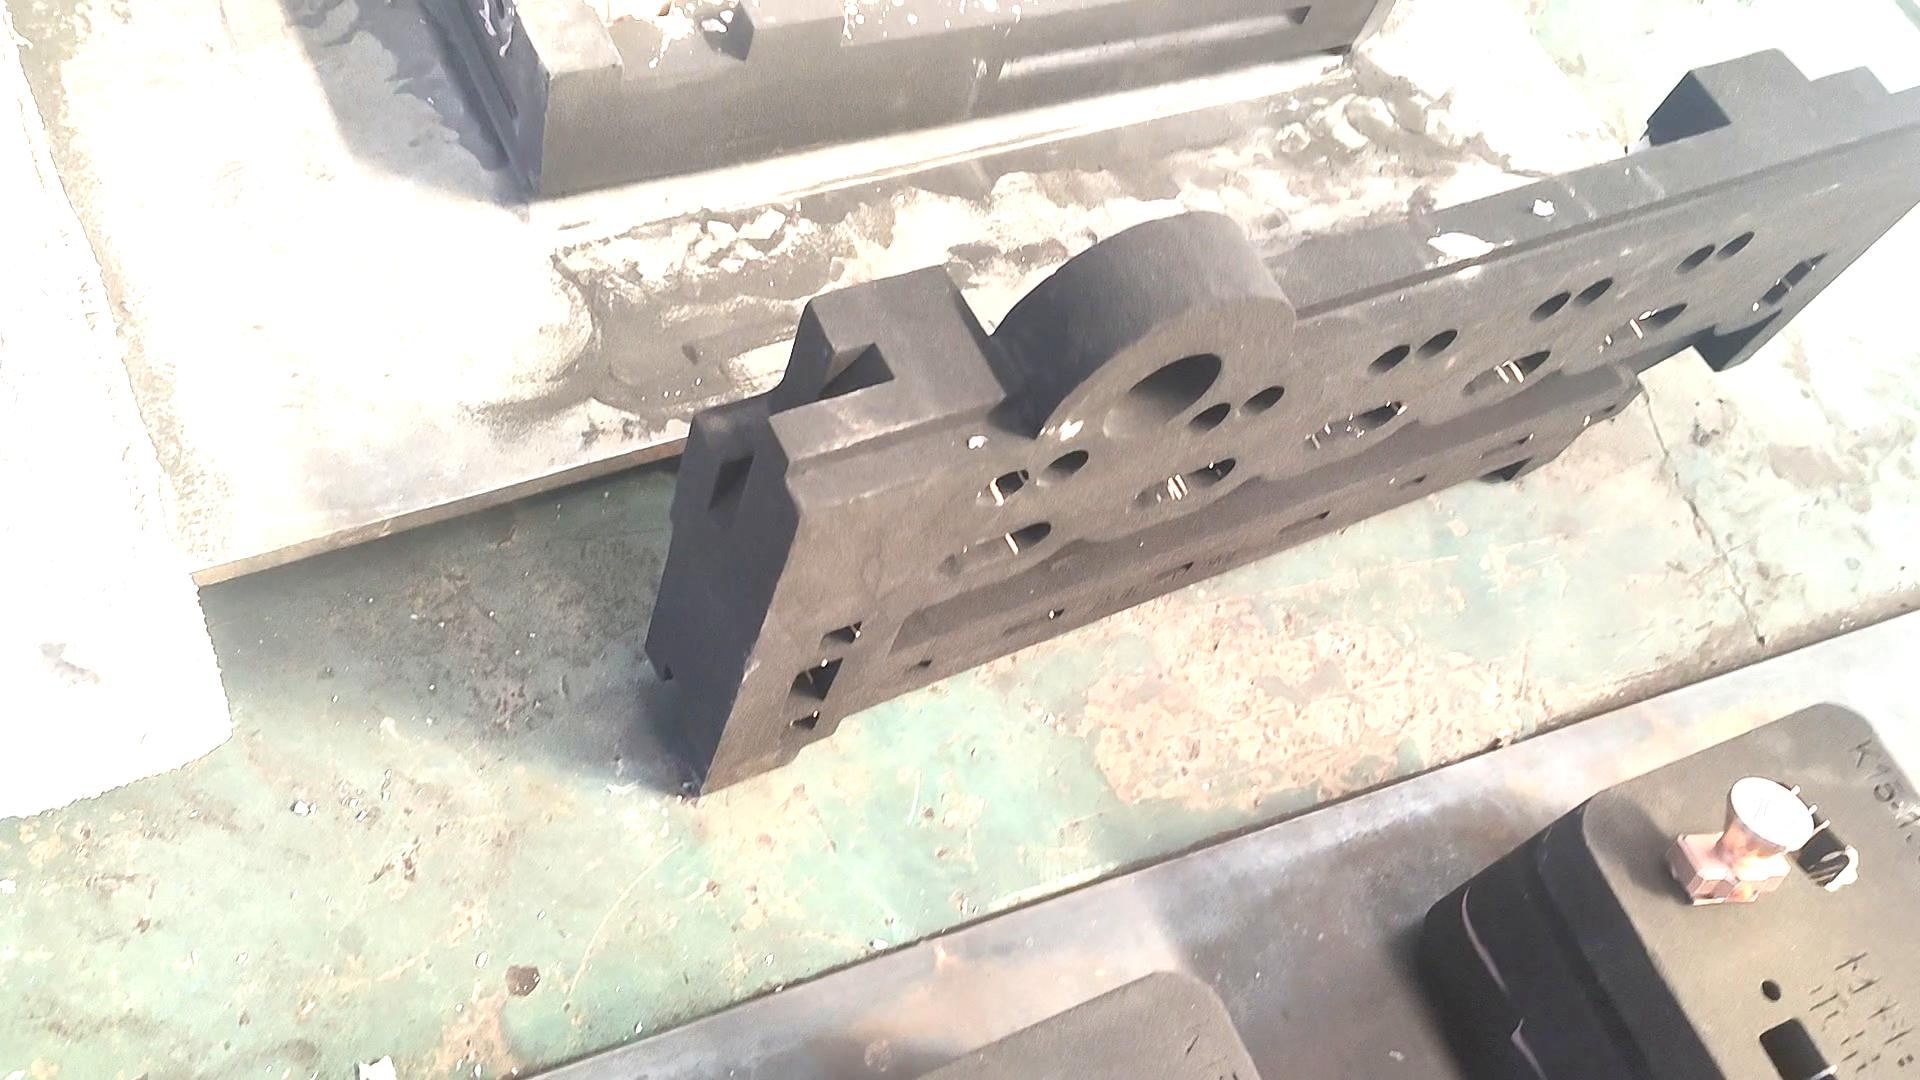pouring hole: (1102, 353, 1222, 439)
